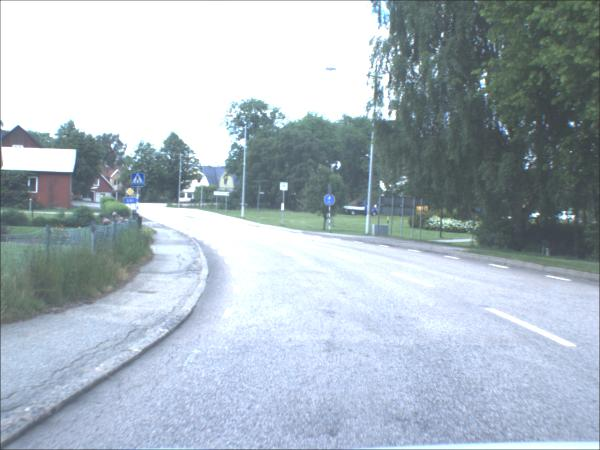PEDESTRIAN_CROSSING: (131, 175, 145, 189)
PRIORITY_ROAD: (125, 189, 135, 197)
